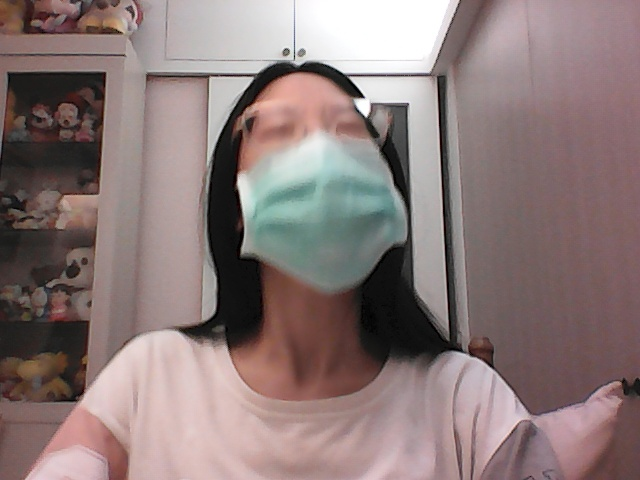Mask: (224, 135, 412, 301)
